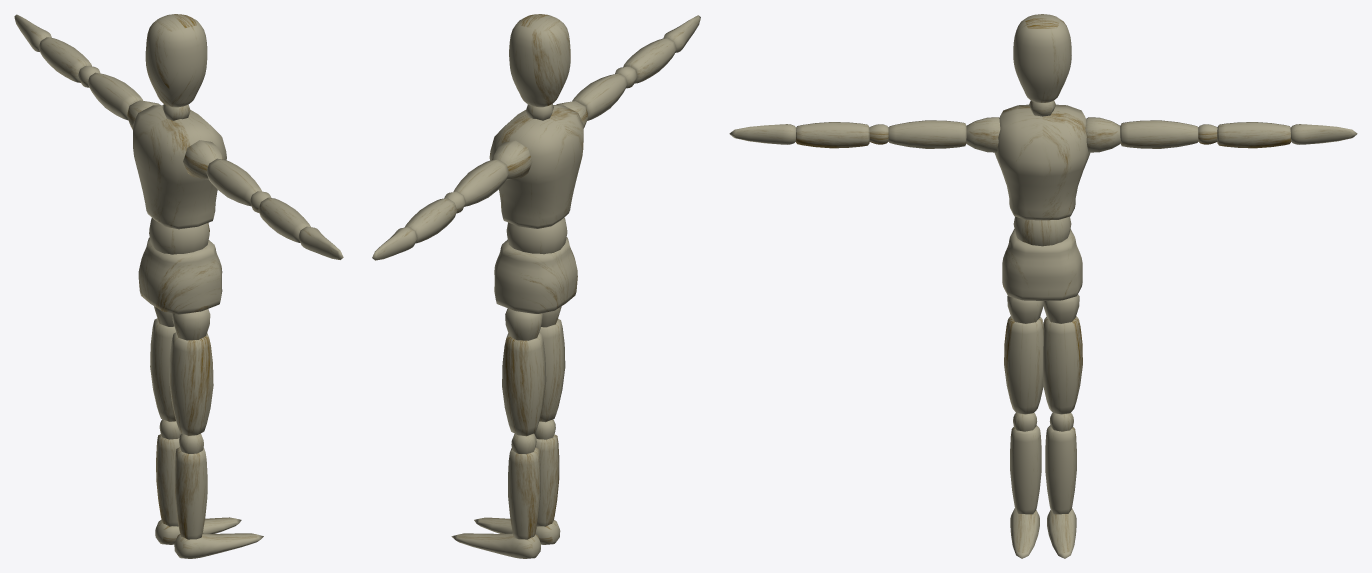
The model's file is WOODMan.fbx.
3 renders of one model, left to right at view 1: azimuth 30°, elevation 25°; view 2: azimuth 150°, elevation 25°; view 3: azimuth 270°, elevation 25°, orthographic. The views are drawn at different scales.
Visible parts, largest first — view 1: LEG, HAND, CHEST, BASIN, HEAD, ABDO; view 2: LEG, HAND, CHEST, BASIN, HEAD, ABDO; view 3: LEG, HAND, CHEST, BASIN, HEAD, ABDO.
Boxes of the visible parts, x1=… form: LEG: x1=150, y1=306, x2=263, y2=558; HAND: x1=14, y1=14, x2=343, y2=259; CHEST: x1=132, y1=105, x2=226, y2=229; BASIN: x1=138, y1=237, x2=222, y2=314; HEAD: x1=145, y1=14, x2=207, y2=107; ABDO: x1=149, y1=218, x2=209, y2=254; LEG: x1=451, y1=306, x2=565, y2=558; HAND: x1=372, y1=15, x2=700, y2=260; CHEST: x1=489, y1=105, x2=583, y2=228; BASIN: x1=494, y1=237, x2=577, y2=313; HEAD: x1=509, y1=14, x2=570, y2=107; ABDO: x1=506, y1=217, x2=567, y2=254; LEG: x1=1004, y1=294, x2=1082, y2=558; HAND: x1=729, y1=117, x2=1357, y2=152; CHEST: x1=994, y1=104, x2=1090, y2=220; BASIN: x1=1002, y1=229, x2=1082, y2=300; HEAD: x1=1013, y1=14, x2=1071, y2=102; ABDO: x1=1013, y1=216, x2=1071, y2=246.
Bounding box in the file's own units: 0.3921 × 1.84 × 2.05.
Materials: 1 (1 with a texture image).
